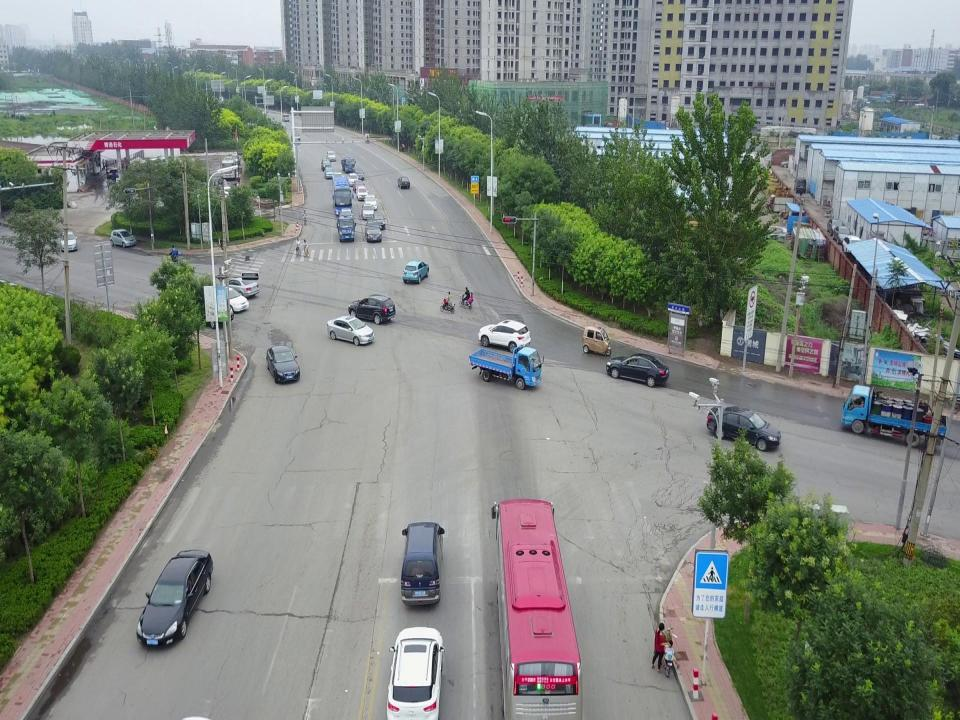bus: (491, 497, 581, 720), (331, 176, 353, 216)
car: (136, 549, 213, 646), (386, 624, 445, 720), (708, 404, 780, 455), (606, 353, 668, 388), (476, 319, 530, 354), (326, 316, 375, 348), (348, 293, 396, 325), (186, 295, 232, 328), (264, 345, 302, 384), (209, 283, 249, 318), (223, 278, 258, 300), (403, 261, 429, 285), (109, 229, 137, 249), (842, 236, 865, 257), (831, 225, 853, 245), (826, 217, 846, 237), (365, 220, 382, 243), (60, 230, 76, 253), (372, 212, 386, 229), (364, 194, 378, 211), (361, 204, 374, 220), (396, 177, 410, 189), (356, 186, 368, 200), (352, 179, 364, 192), (347, 172, 357, 187), (353, 168, 365, 180), (333, 172, 344, 184), (321, 159, 331, 172), (324, 168, 334, 180), (290, 130, 300, 141), (326, 152, 336, 162)
truck: (841, 386, 947, 448), (468, 345, 541, 390), (337, 217, 355, 241), (340, 156, 356, 172)
van: (401, 523, 445, 606), (793, 176, 807, 194), (282, 112, 289, 121)
